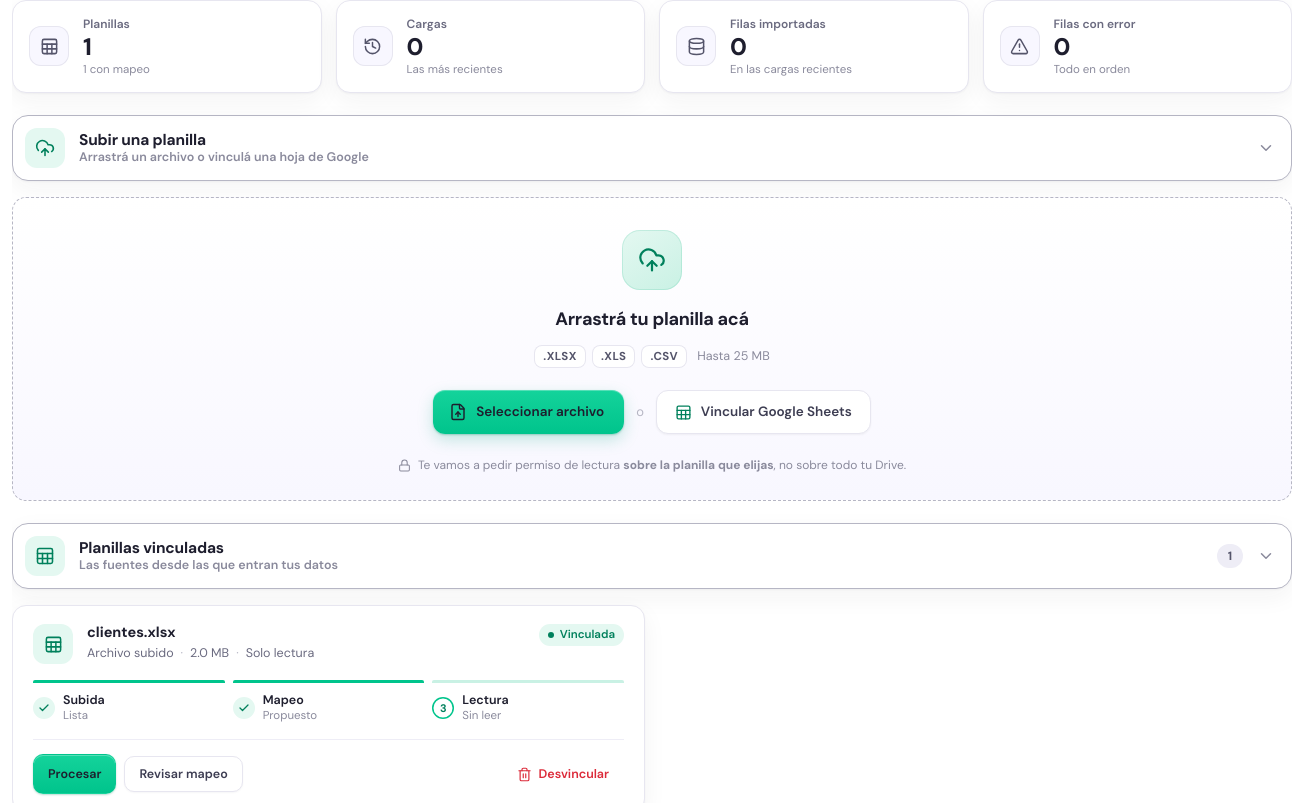
it: IngestaDePlanillas › encola el procesamiento y avisa que recien empieza
Click the button "Procesar" at point(75, 774), box [33,754,116,794]
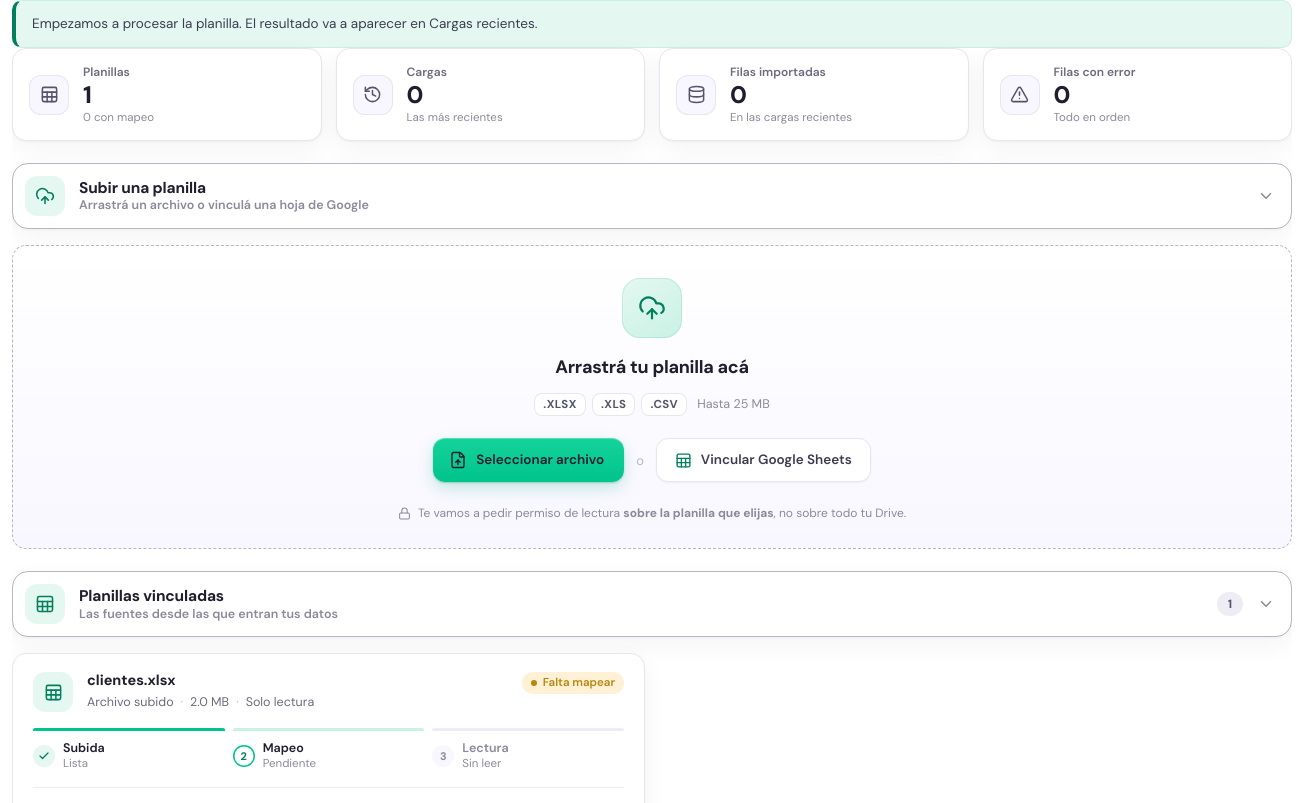
Now the text "Empezamos a procesar" is shown, box [32,15,538,32]
